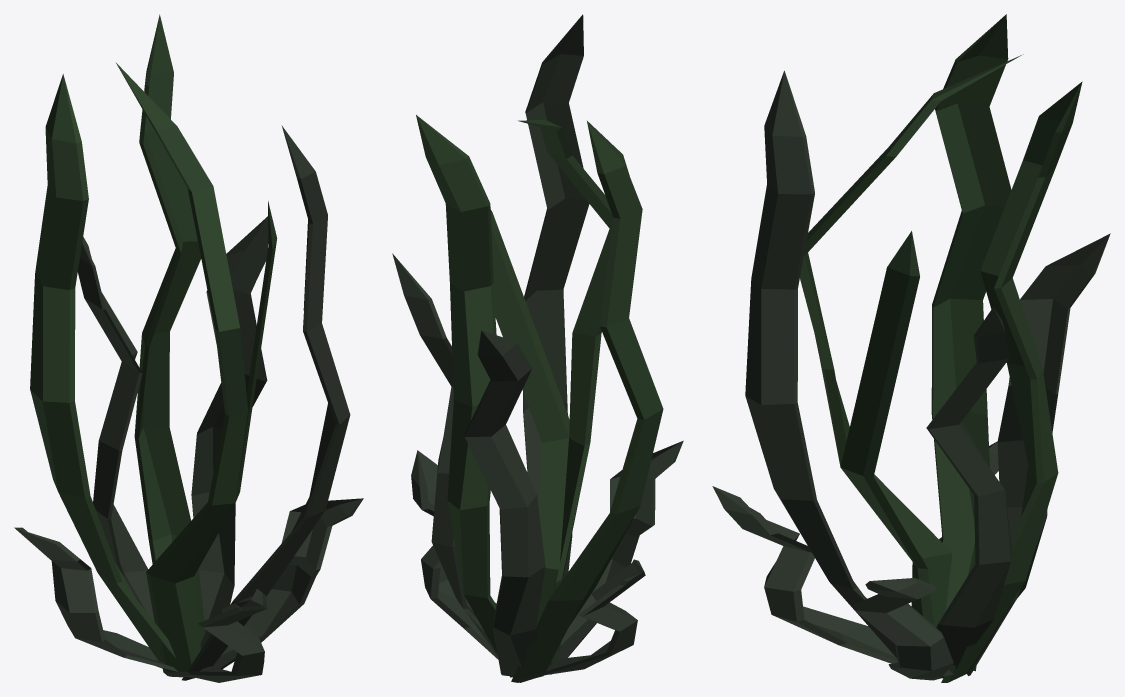
The model's file is Hierva alta 3.fbx.
The picture shows the model from 3 angles, left to right: view 1: azimuth 30°, elevation 25°; view 2: azimuth 150°, elevation 25°; view 3: azimuth 270°, elevation 25°; orthographic projection. The views are drawn at different scales.
Visible parts, largest first — view 1: hierva alta; view 2: hierva alta; view 3: hierva alta.
Part boxes in pixels (x1,y1,x2,y2): hierva alta: [14, 14, 363, 682]; hierva alta: [392, 14, 683, 682]; hierva alta: [712, 14, 1110, 682].
Bounding box in the file's own units: 117 × 230 × 136.
